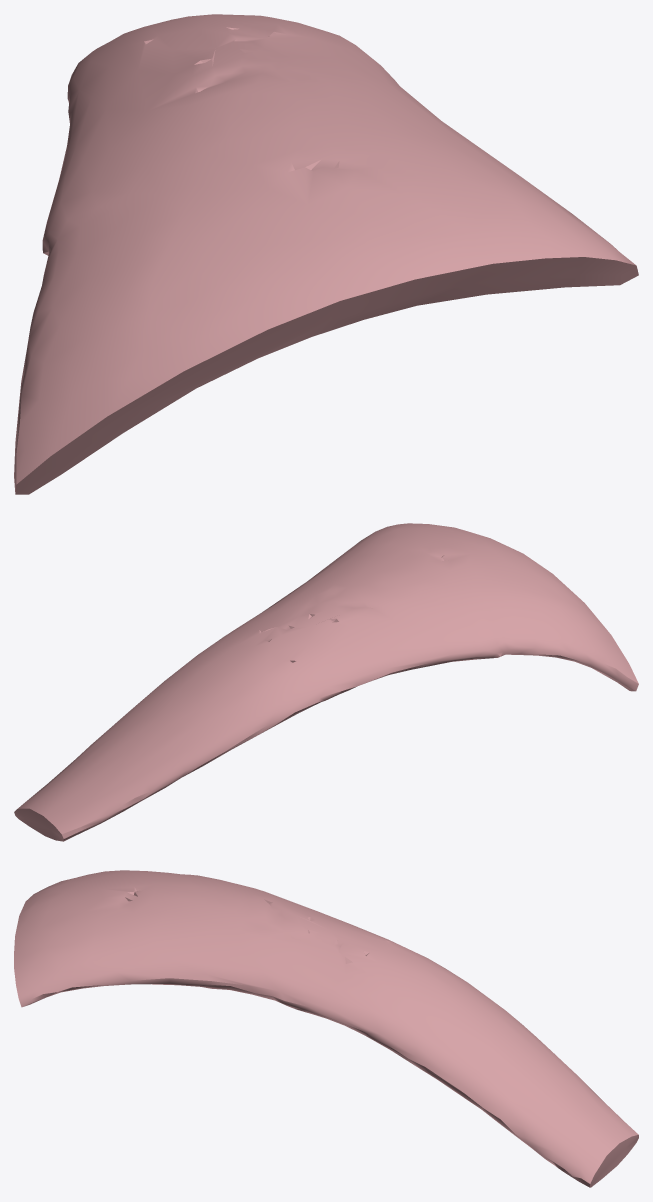
The model's file is fma319813_mm2219m.glb.
3 renders of one model, top to bottom at view 1: azimuth 30°, elevation 25°; view 2: azimuth 150°, elevation 25°; view 3: azimuth 270°, elevation 25°, orthographic. The views are drawn at different scales.
Visible parts, largest first — view 1: FMA319813_MM2219M; view 2: FMA319813_MM2219M; view 3: FMA319813_MM2219M.
Boxes of the visible parts, x1,y1,x2,y2 form: FMA319813_MM2219M: (14, 14, 638, 494); FMA319813_MM2219M: (14, 523, 638, 841); FMA319813_MM2219M: (14, 870, 638, 1187).
Bounding box in the file's own units: 0.0259 × 0.0103 × 0.0324.
